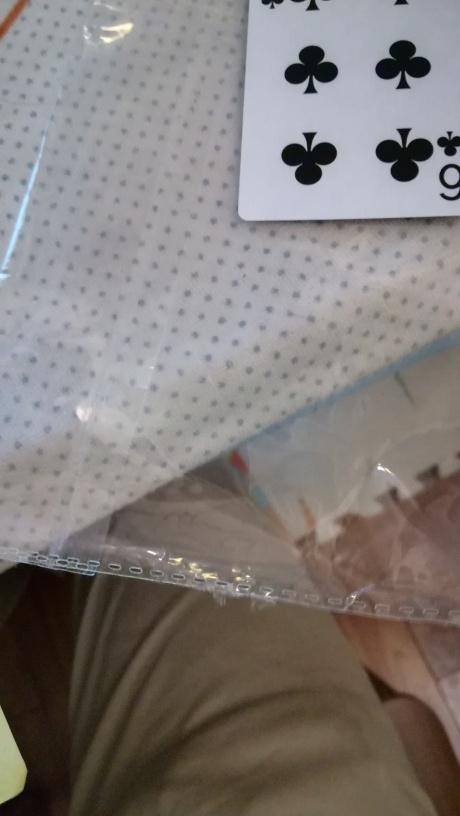mh 6: (242, 0, 458, 221)
